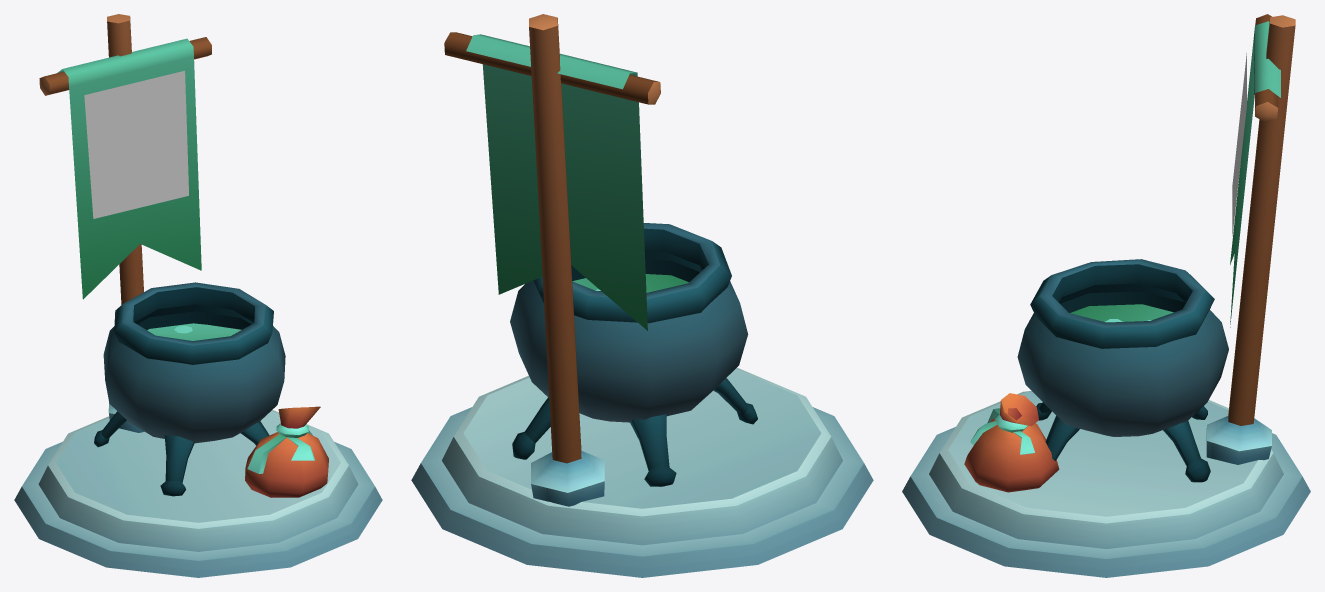
Rendered from env_Currency_Bowl_Magic_Dust_v01.fbx.
3 renders of one model, left to right at view 1: azimuth 30°, elevation 25°; view 2: azimuth 150°, elevation 25°; view 3: azimuth 270°, elevation 25°, orthographic. The views are drawn at different scales.
Visible parts, largest first — view 1: Bowl_for_Currency_3_Magic_Dust, Flag_dust, Flag_dust.001, Loot_Magic_Dust.001; view 2: Bowl_for_Currency_3_Magic_Dust, Flag_dust; view 3: Bowl_for_Currency_3_Magic_Dust, Flag_dust, Loot_Magic_Dust.001, Flag_dust.001.
Boxes of the visible parts, left/top/right/bottom form: Bowl_for_Currency_3_Magic_Dust: left=14, top=282, right=382, bottom=577; Flag_dust: left=39, top=14, right=211, bottom=432; Flag_dust.001: left=84, top=70, right=188, bottom=218; Loot_Magic_Dust.001: left=245, top=406, right=328, bottom=497; Bowl_for_Currency_3_Magic_Dust: left=411, top=223, right=873, bottom=577; Flag_dust: left=444, top=14, right=660, bottom=506; Bowl_for_Currency_3_Magic_Dust: left=902, top=259, right=1310, bottom=577; Flag_dust: left=1206, top=14, right=1295, bottom=464; Loot_Magic_Dust.001: left=964, top=393, right=1059, bottom=492; Flag_dust.001: left=1232, top=53, right=1246, bottom=236.
Bounding box in the file's own units: 375 × 478 × 375.
